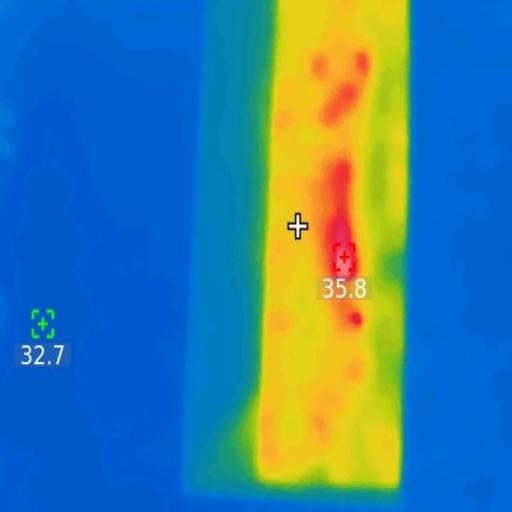hotspot: (332, 232, 356, 278), (353, 310, 365, 330), (354, 50, 365, 70)
